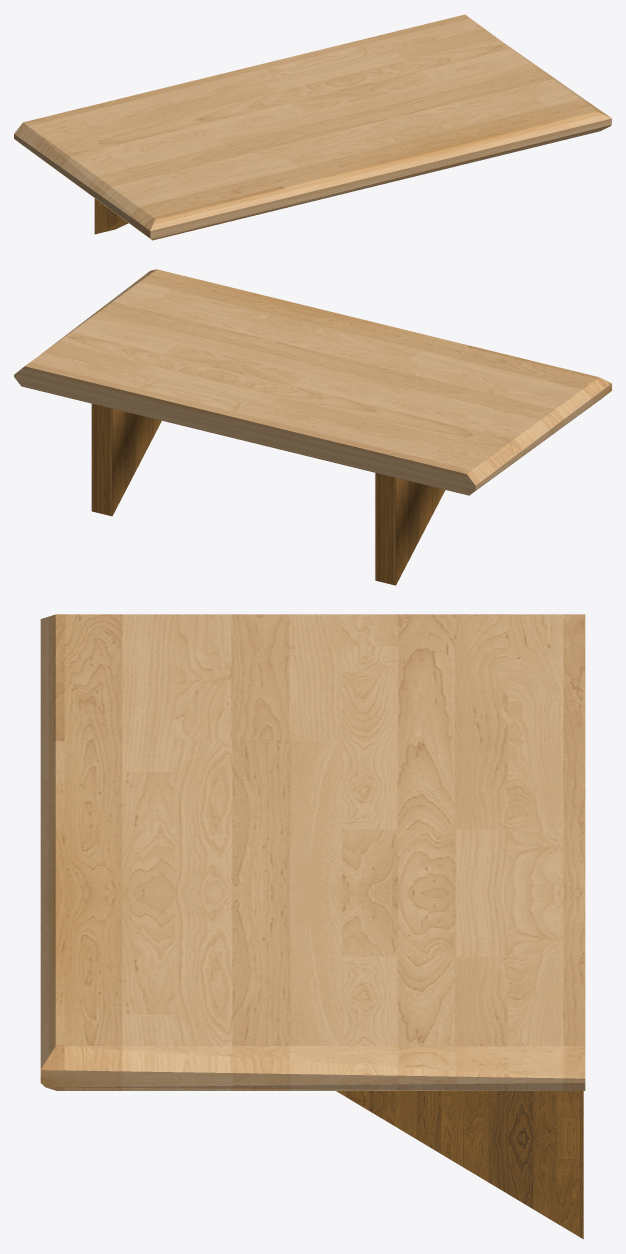
Rendered from shelf.FBX.
3 renders of one model, top to bottom at view 1: azimuth 30°, elevation 25°; view 2: azimuth 150°, elevation 25°; view 3: azimuth 270°, elevation 25°, orthographic. The views are drawn at different scales.
Visible parts, largest first — view 1: Box001; view 2: Box001; view 3: Box001.
Boxes of the visible parts, box(x1,y1,x2,y2) form: Box001: box(14, 14, 611, 240); Box001: box(14, 269, 611, 585); Box001: box(40, 614, 585, 1239).
Size of the model in its own units: 60.37 by 16.15 by 30.85.
